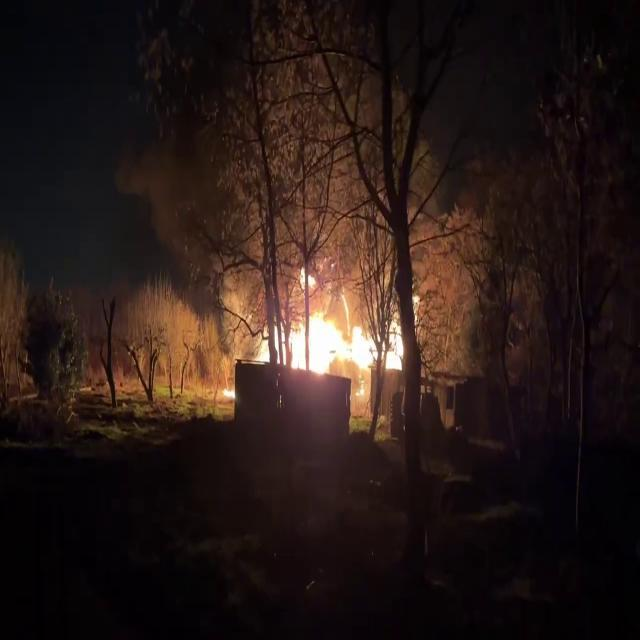Fire: (260, 274, 406, 382)
Smoke: (238, 33, 416, 259)
